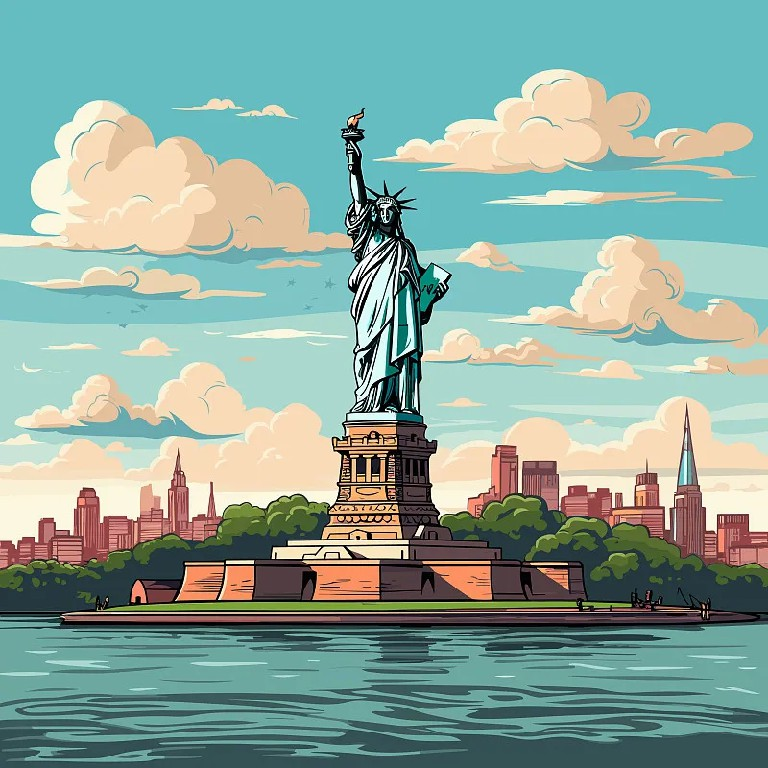SL: (321, 108, 453, 542)
